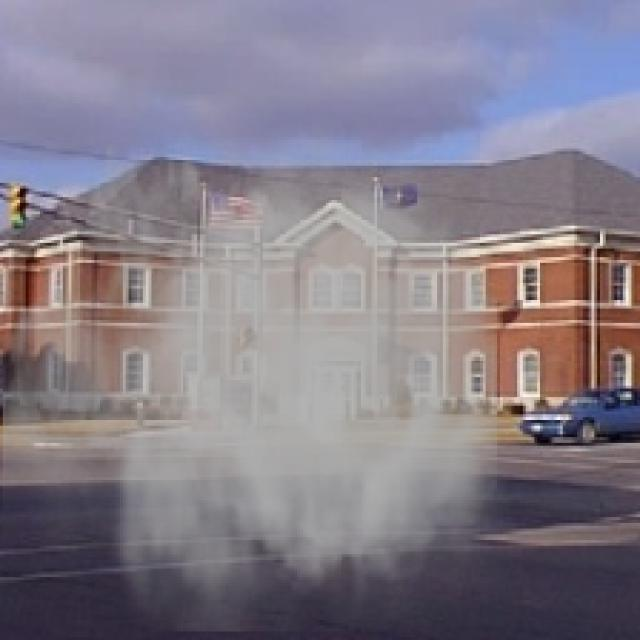smoke: (3, 91, 528, 632)
